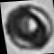correct: (0, 3, 54, 54)
